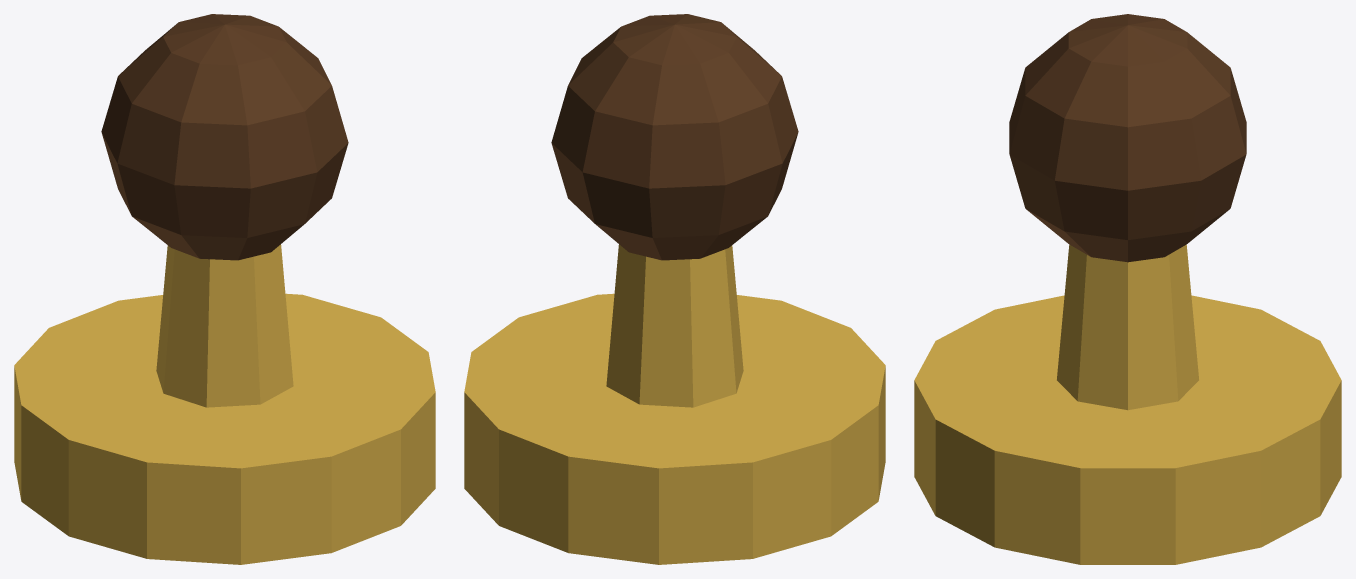
File: university_seal.glb
3 renders of one model, left to right at view 1: azimuth 30°, elevation 25°; view 2: azimuth 150°, elevation 25°; view 3: azimuth 270°, elevation 25°, orthographic.
Parts seen in each view (by area): view 1: base_seal_brass, knob_seal_knob, stem_seal_brass; view 2: base_seal_brass, knob_seal_knob, stem_seal_brass; view 3: base_seal_brass, knob_seal_knob, stem_seal_brass.
Part boxes in pixels (x1,y1,x2,y2): base_seal_brass: [14, 293, 435, 564]; knob_seal_knob: [101, 14, 348, 260]; stem_seal_brass: [156, 244, 293, 407]; base_seal_brass: [464, 293, 885, 564]; knob_seal_knob: [551, 14, 798, 260]; stem_seal_brass: [606, 244, 743, 407]; base_seal_brass: [914, 295, 1341, 564]; knob_seal_knob: [1009, 14, 1246, 262]; stem_seal_brass: [1057, 244, 1198, 410].
Bounding box in the file's own units: 0.117 × 0.14 × 0.12.
